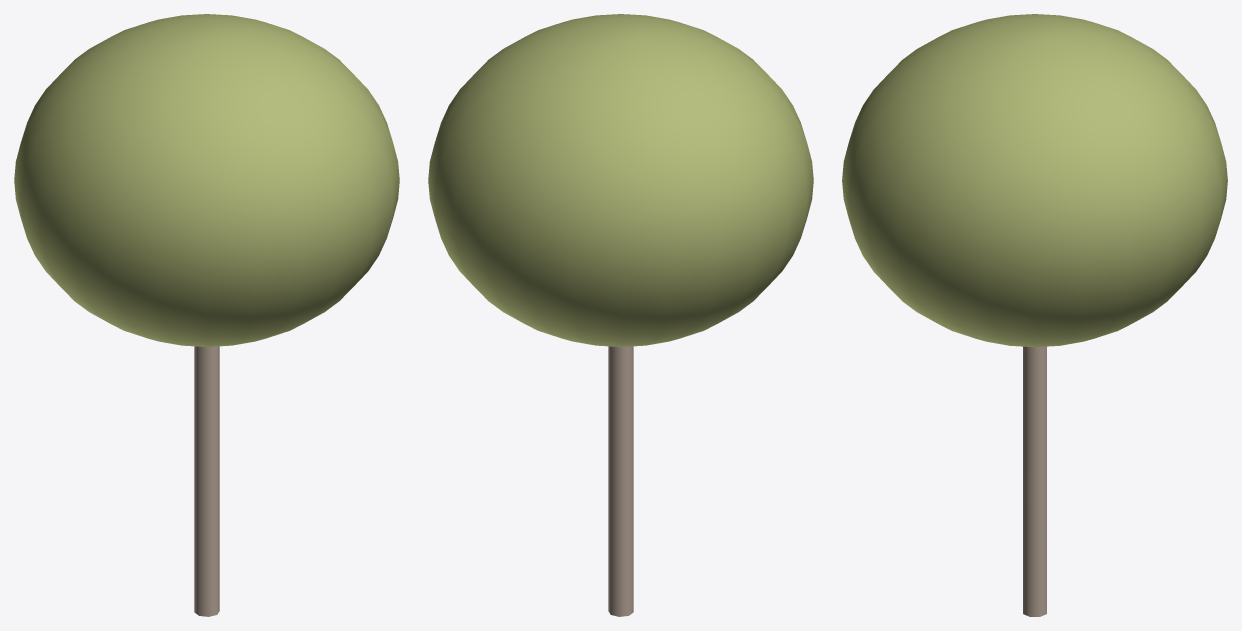
Rendered from AiphanesHorrida.glb.
The picture shows the model from 3 angles, left to right: view 1: azimuth 30°, elevation 25°; view 2: azimuth 150°, elevation 25°; view 3: azimuth 270°, elevation 25°; orthographic projection.
Visible parts, largest first — view 1: Ruffle_Palm__Schematic_LOD3; view 2: Ruffle_Palm__Schematic_LOD3; view 3: Ruffle_Palm__Schematic_LOD3.
Boxes of the visible parts, box(x1,y1,x2,y2) form: Ruffle_Palm__Schematic_LOD3: box(14, 14, 399, 616); Ruffle_Palm__Schematic_LOD3: box(428, 14, 813, 616); Ruffle_Palm__Schematic_LOD3: box(842, 14, 1227, 616).
Bounding box in the file's own units: 5.98 × 9.86 × 5.98.
